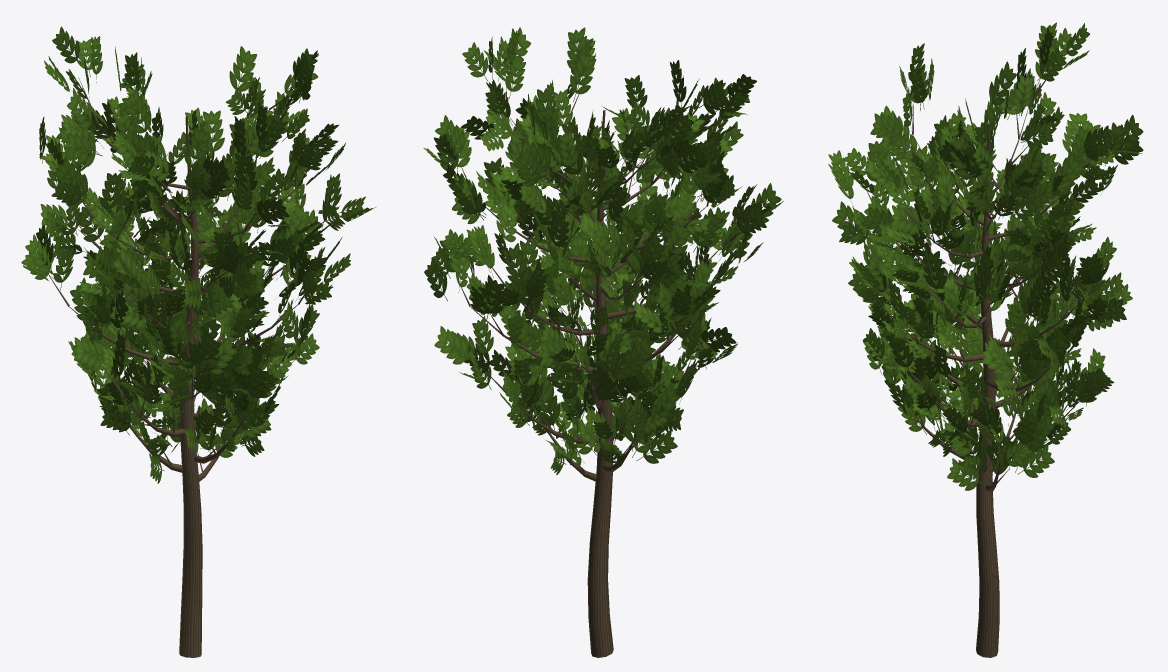
File: tree-oak.glb
3 views of the same model, side by side, from view 1: azimuth 30°, elevation 25°; view 2: azimuth 150°, elevation 25°; view 3: azimuth 270°, elevation 25° (orthographic). The views are drawn at different scales.
Parts seen in each view (by area): view 1: Oak leaf clusters, Oak trunk and branches; view 2: Oak leaf clusters, Oak trunk and branches; view 3: Oak leaf clusters, Oak trunk and branches.
Boxes of the visible parts, bbox=[...] form: Oak leaf clusters: bbox=[21, 26, 375, 483]; Oak trunk and branches: bbox=[47, 77, 340, 657]; Oak leaf clusters: bbox=[423, 27, 783, 474]; Oak trunk and branches: bbox=[458, 83, 741, 657]; Oak leaf clusters: bbox=[828, 22, 1143, 490]; Oak trunk and branches: bbox=[867, 80, 1097, 657].
Bounding box in the file's own units: 2 × 4 × 2.
Materials: 2 (2 with a texture image).
